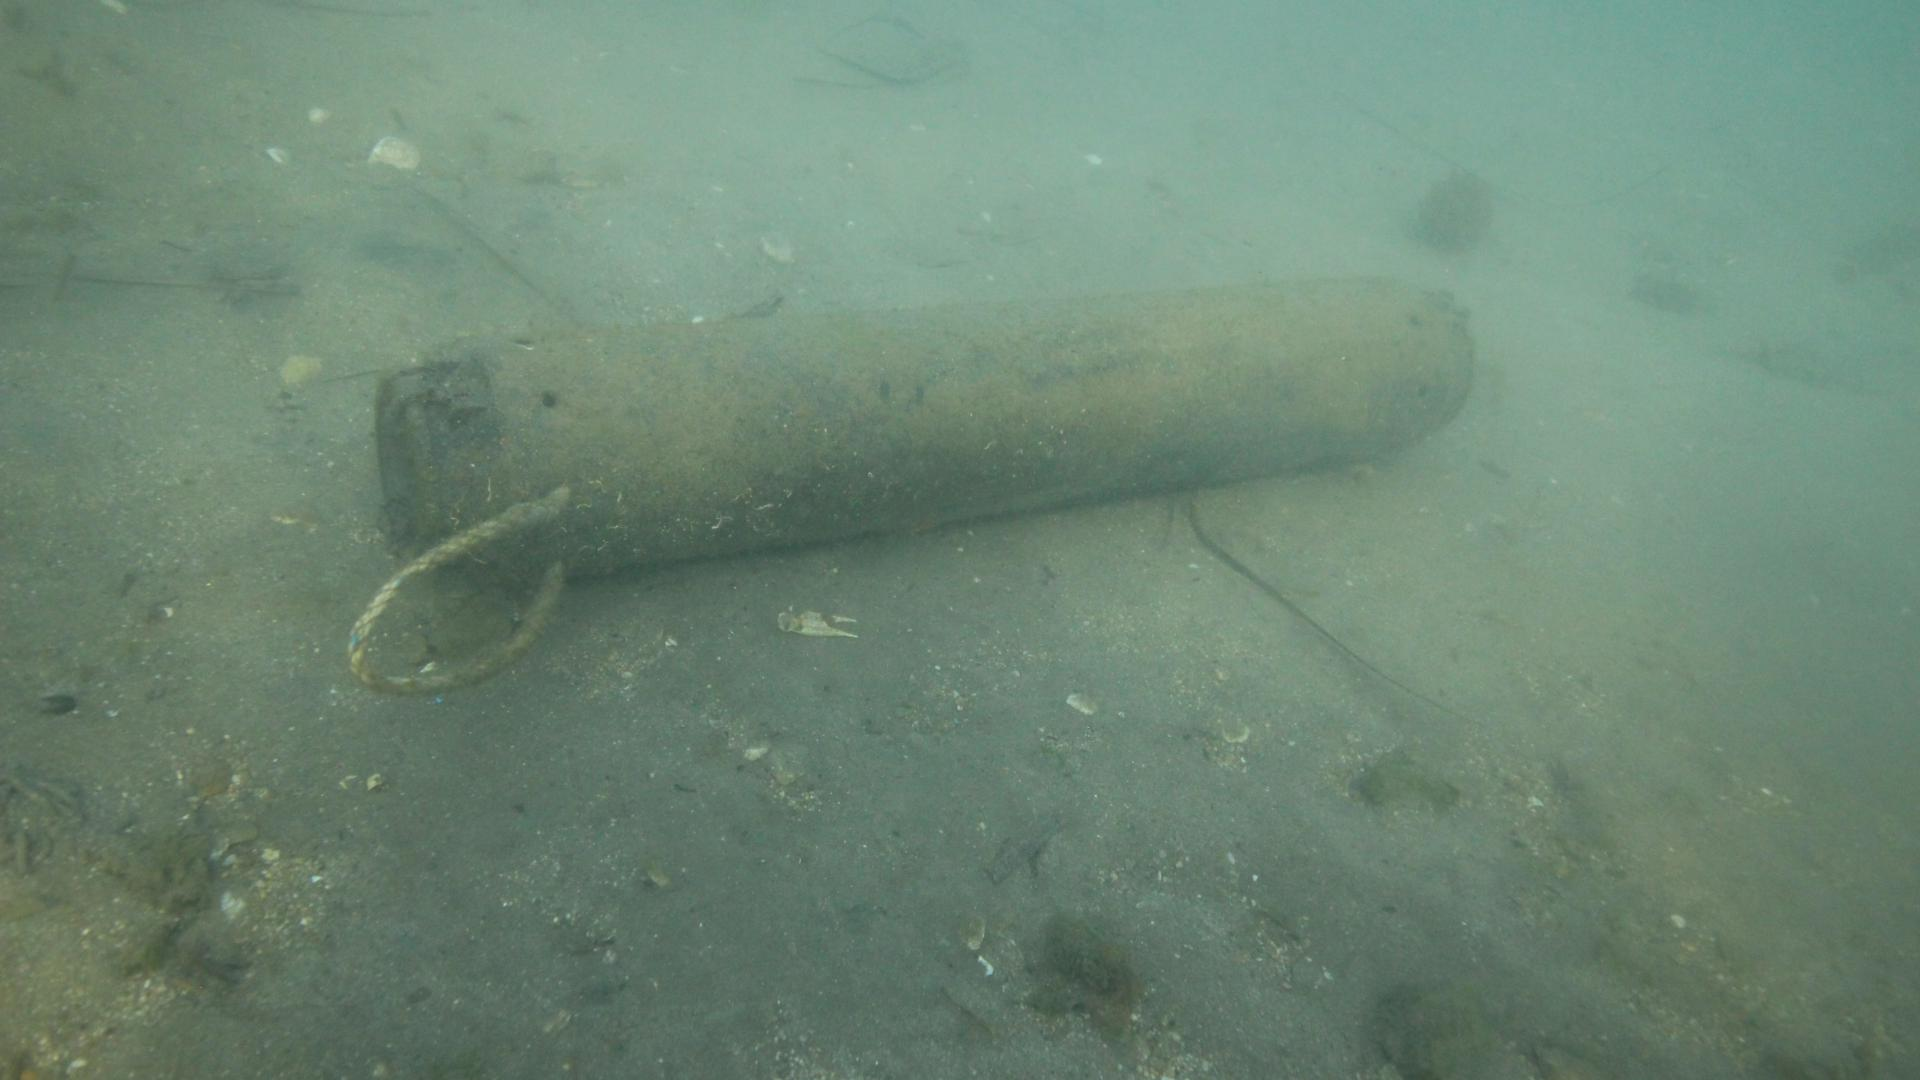eel fish trap: (368, 280, 1472, 584)
rope: (342, 483, 568, 694)
